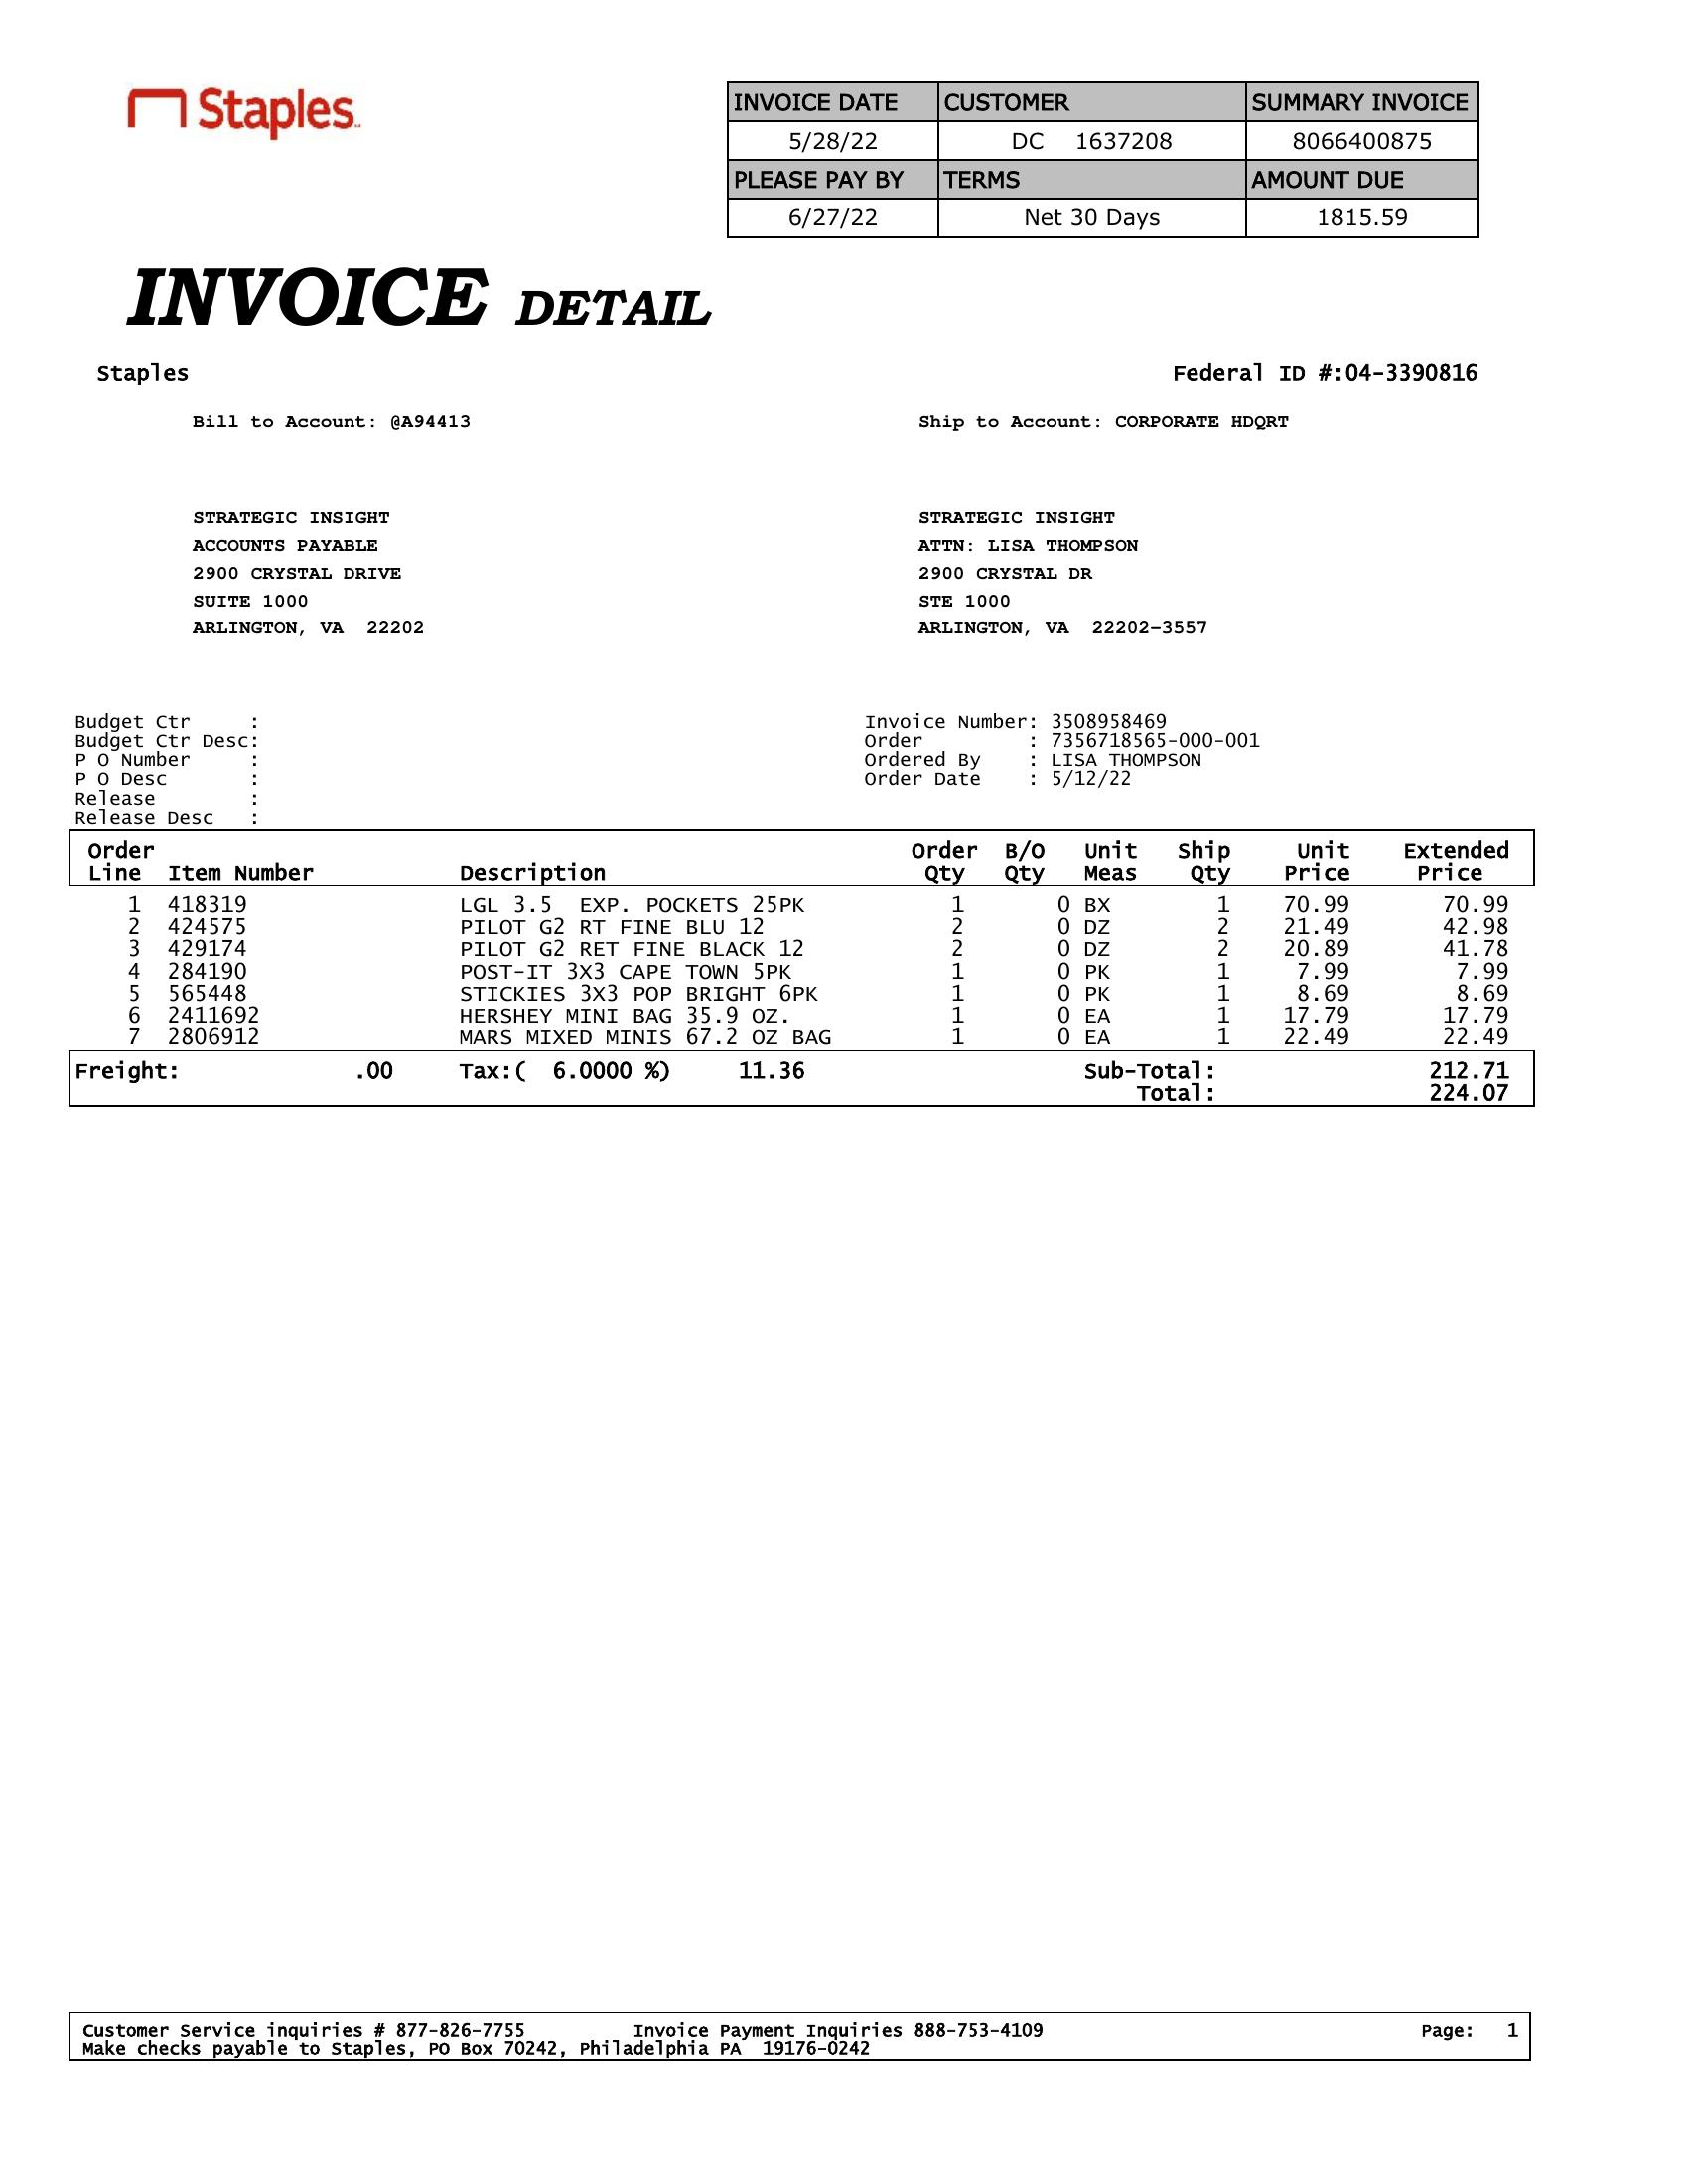table: (67, 831, 1546, 1060), (720, 76, 1498, 246)
